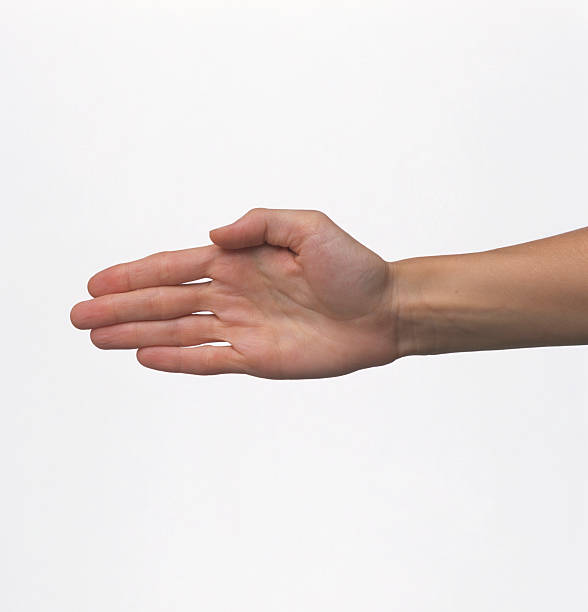non-diseased: (76, 212, 433, 386)
